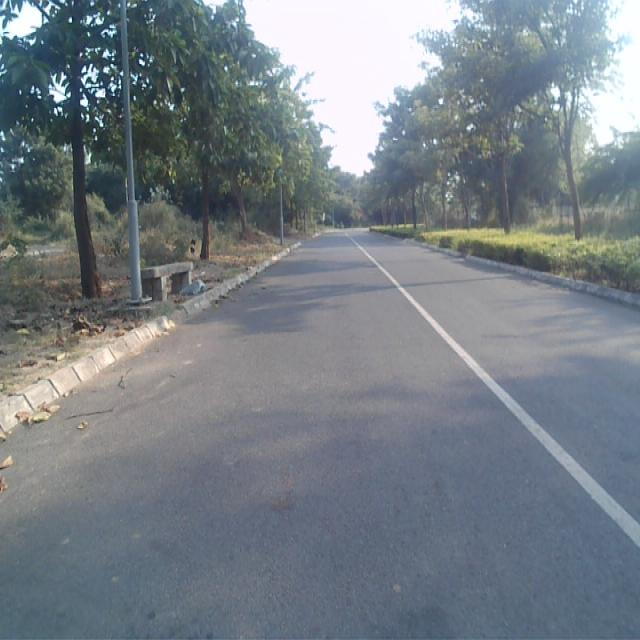lane: (0, 236, 640, 640)
